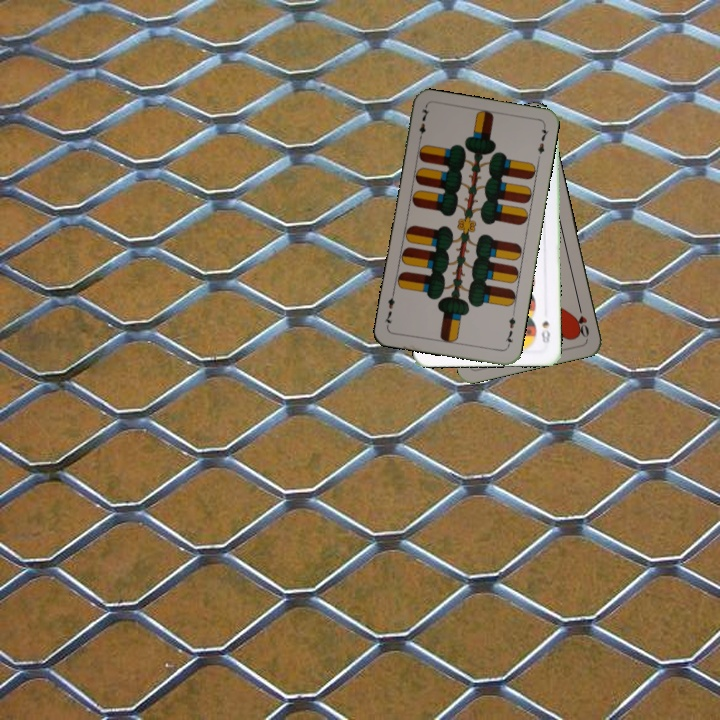E7: (501, 309, 518, 350), (415, 104, 432, 144)
HO: (572, 300, 592, 340)
S8: (537, 317, 552, 347)
